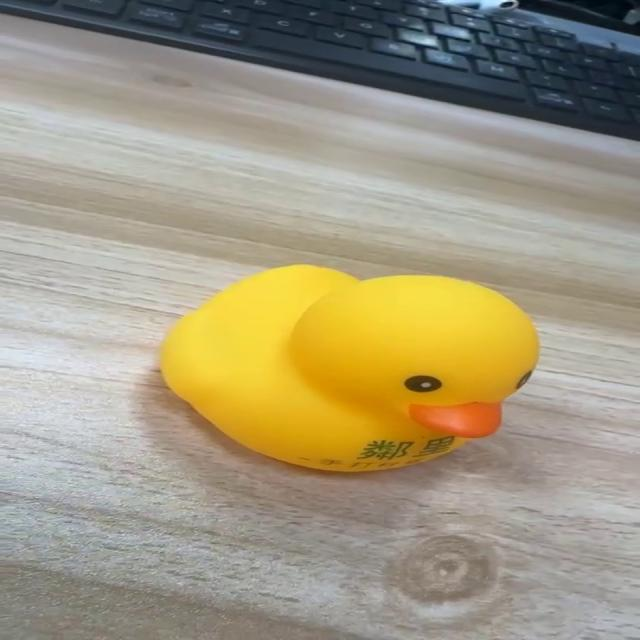yellow_duck: (156, 262, 542, 473)
